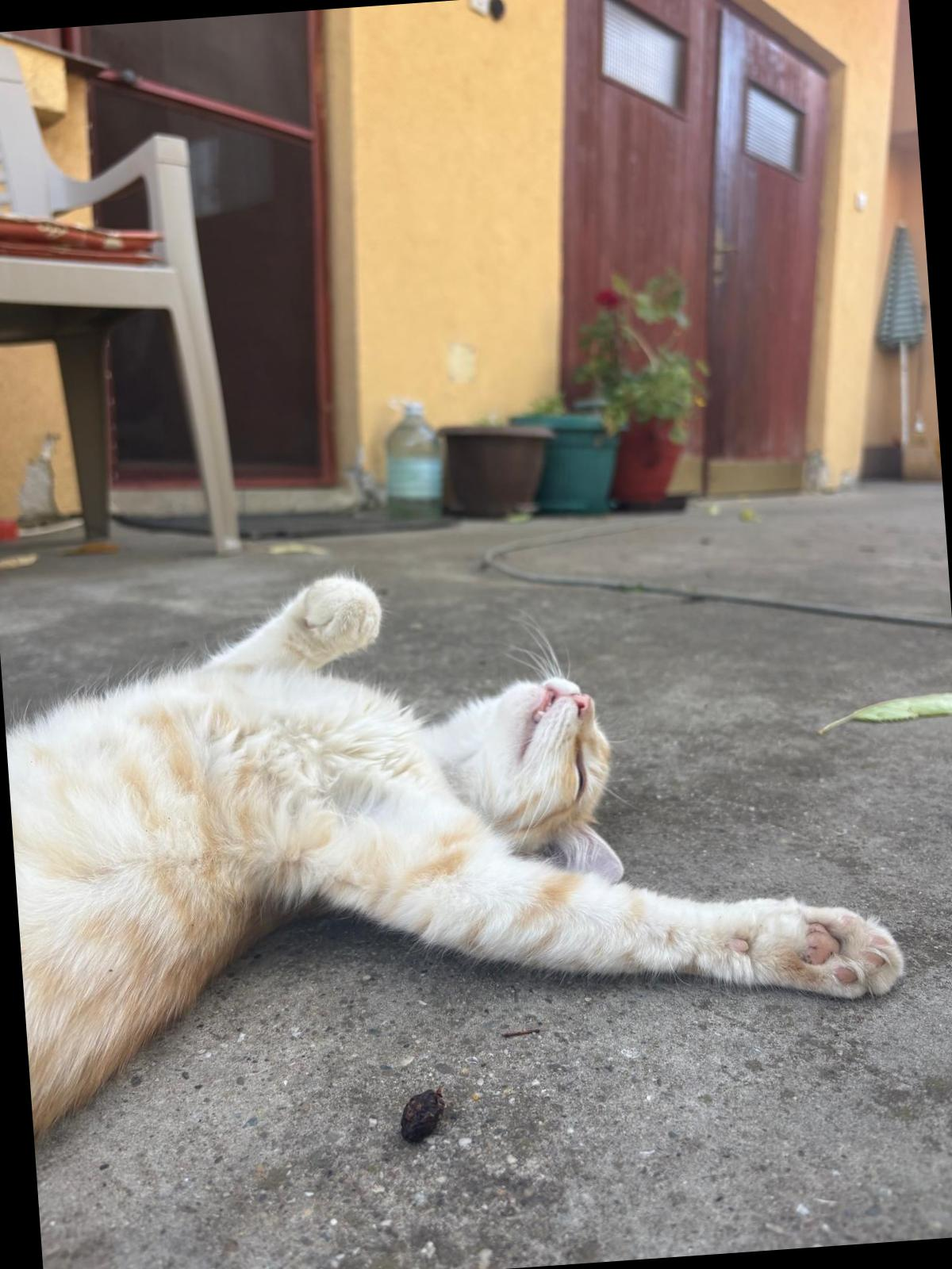macka: (0, 535, 917, 1132)
